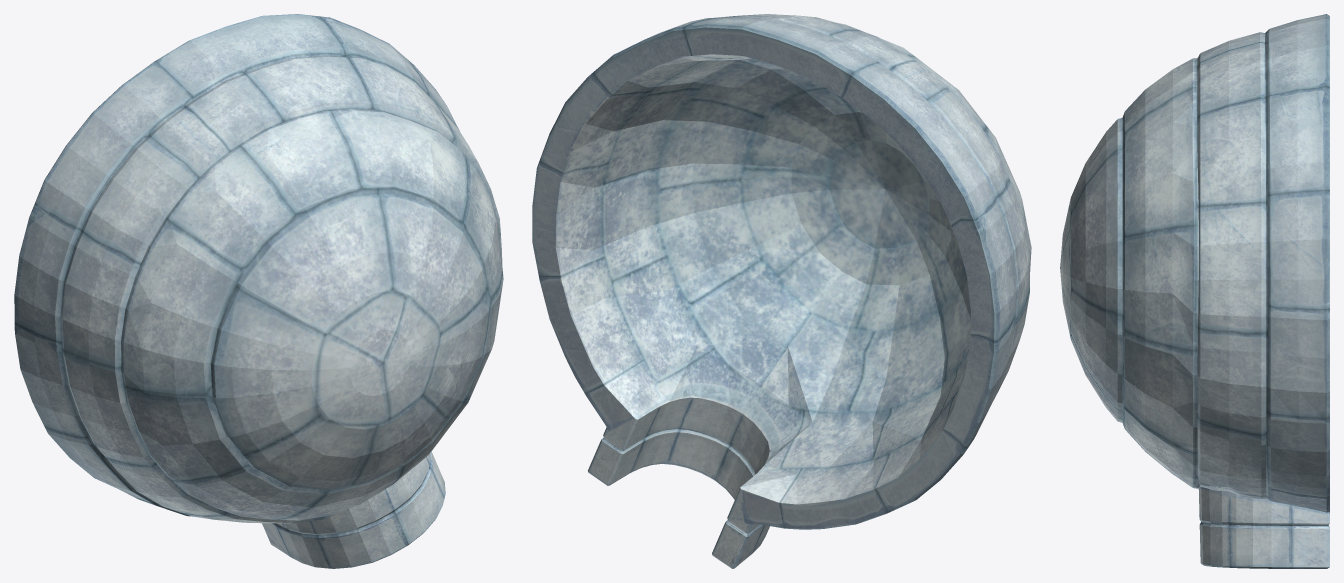
Rendered from igglo.obj.
3 views of the same model, side by side, from view 1: azimuth 30°, elevation 25°; view 2: azimuth 150°, elevation 25°; view 3: azimuth 270°, elevation 25° (orthographic). The views are drawn at different scales.
Visible parts, largest first — view 1: Object.1; view 2: Object.1; view 3: Object.1.
Boxes of the visible parts, x1,y1,x2,y2 form: Object.1: (14, 14, 503, 568); Object.1: (532, 14, 1031, 568); Object.1: (1060, 14, 1329, 568).
Size of the model in its own units: 0.4667 by 0.5223 by 0.2505.
1 material, 1 textured.
